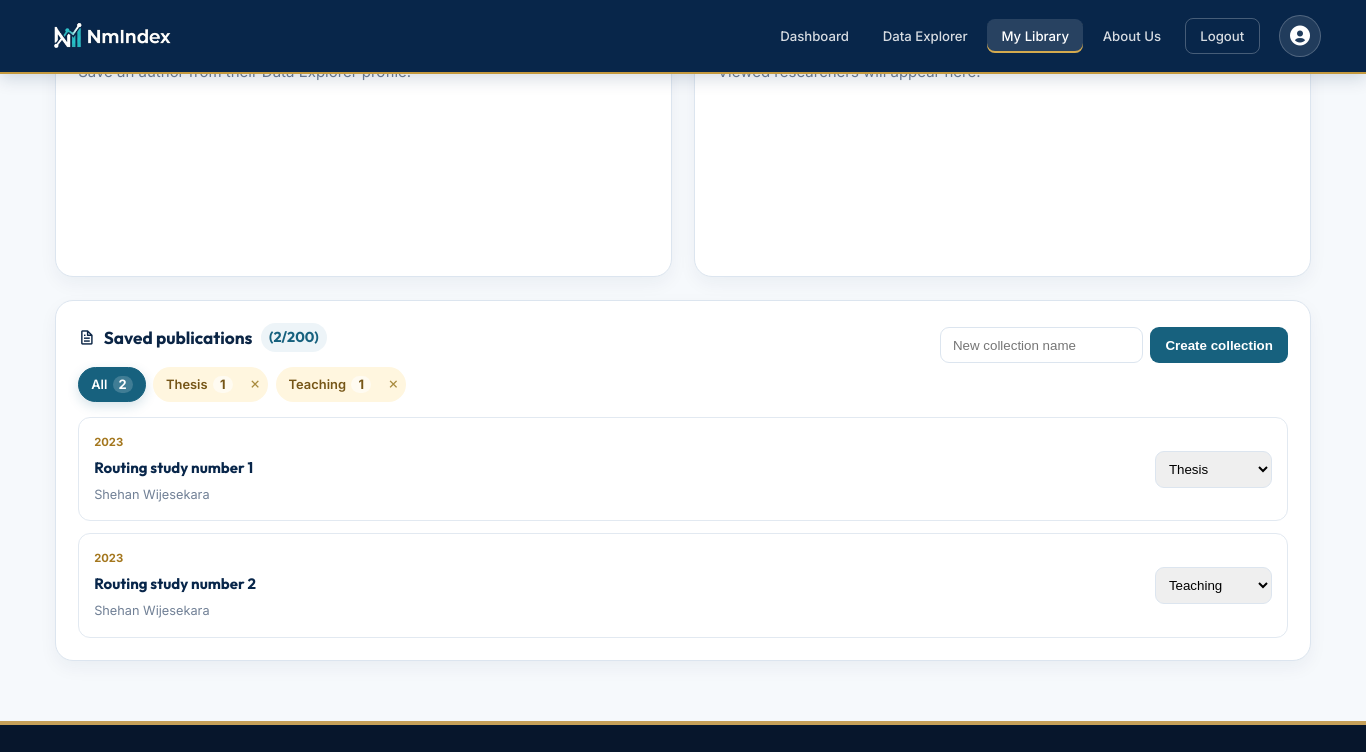
Test: closing returns to the same collection with focus on the paper
(page scrolled)
Click the button "Teaching 1". click: (328, 384)
box: x1=276 y1=367 x2=380 y2=402
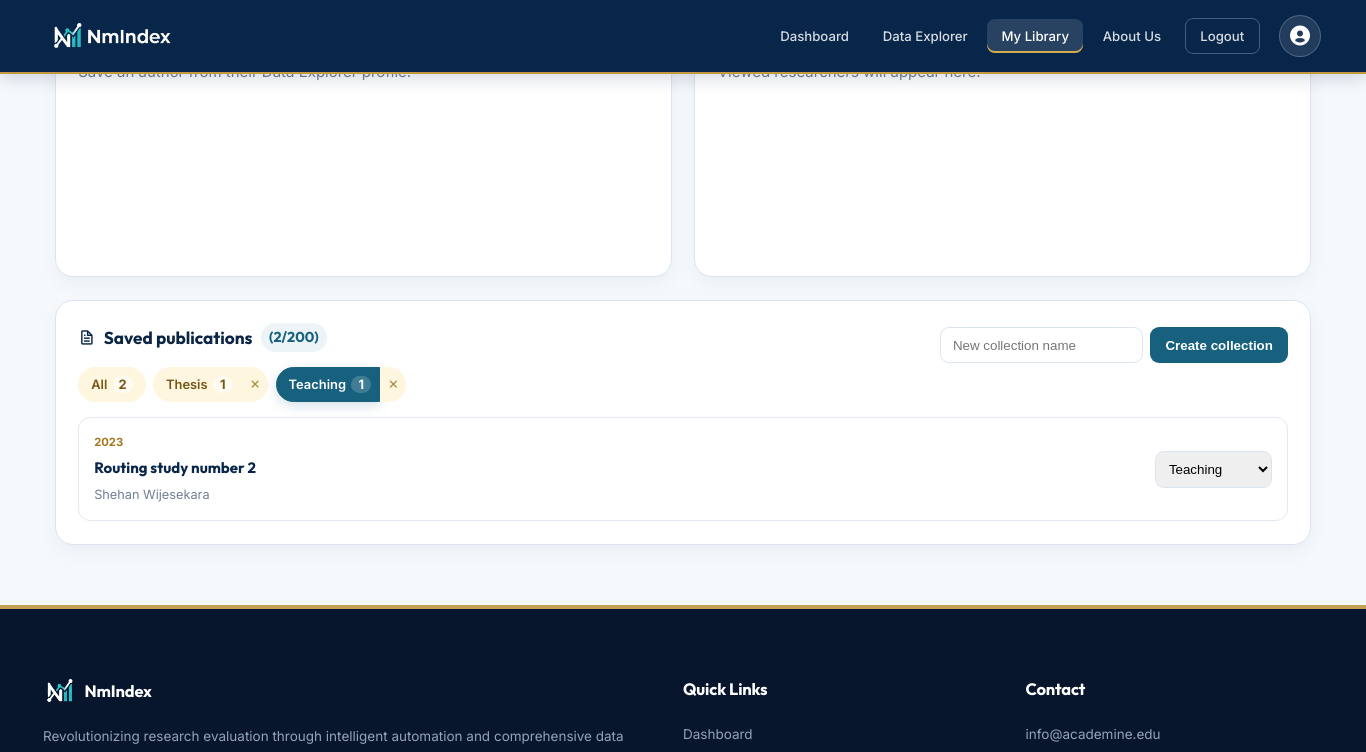
Click the button "2023 Routing study number 2 Shehan Wijesekara". click: (175, 467)
box: x1=94 y1=433 x2=1140 y2=506
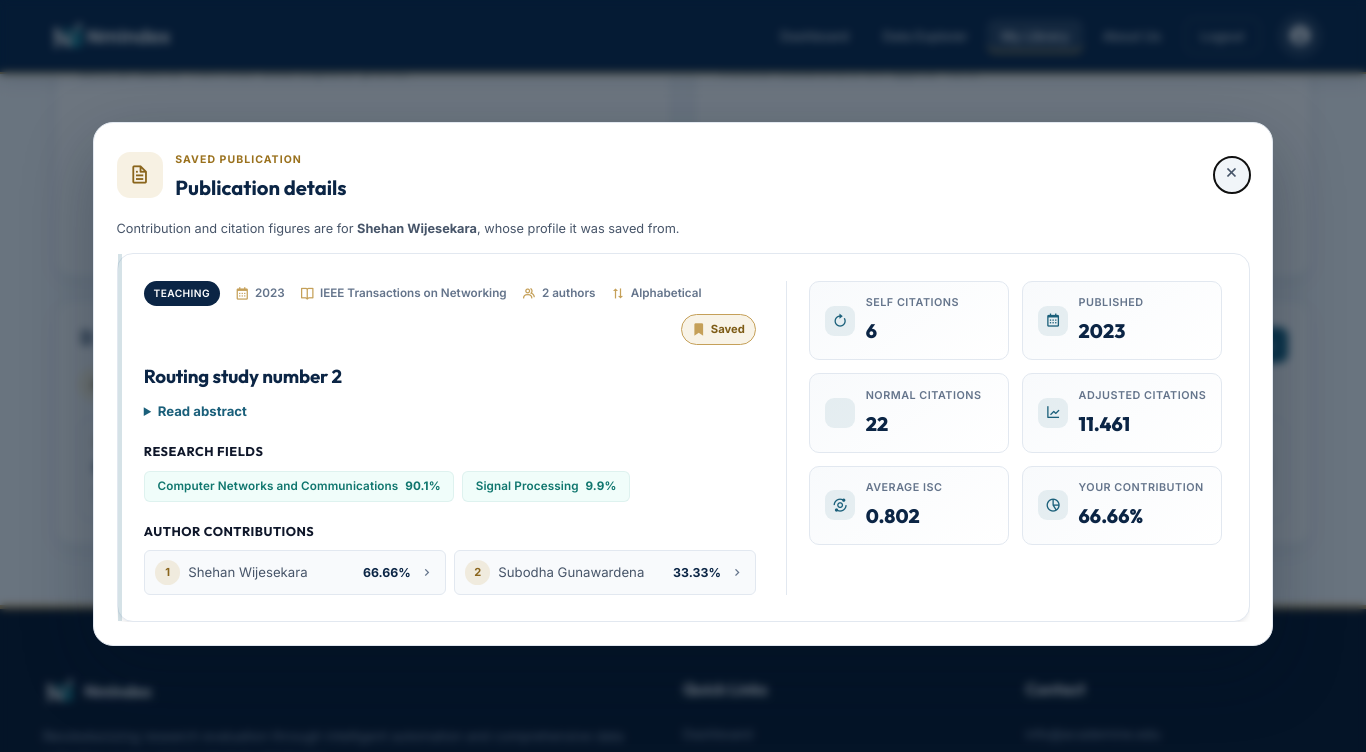
expect the element with class "de-pub-card" is shown: met, box x1=116 y1=253 x2=1250 y2=622
Click the button named "Close". click: (1232, 175)
box: x1=1214 y1=157 x2=1250 y2=193
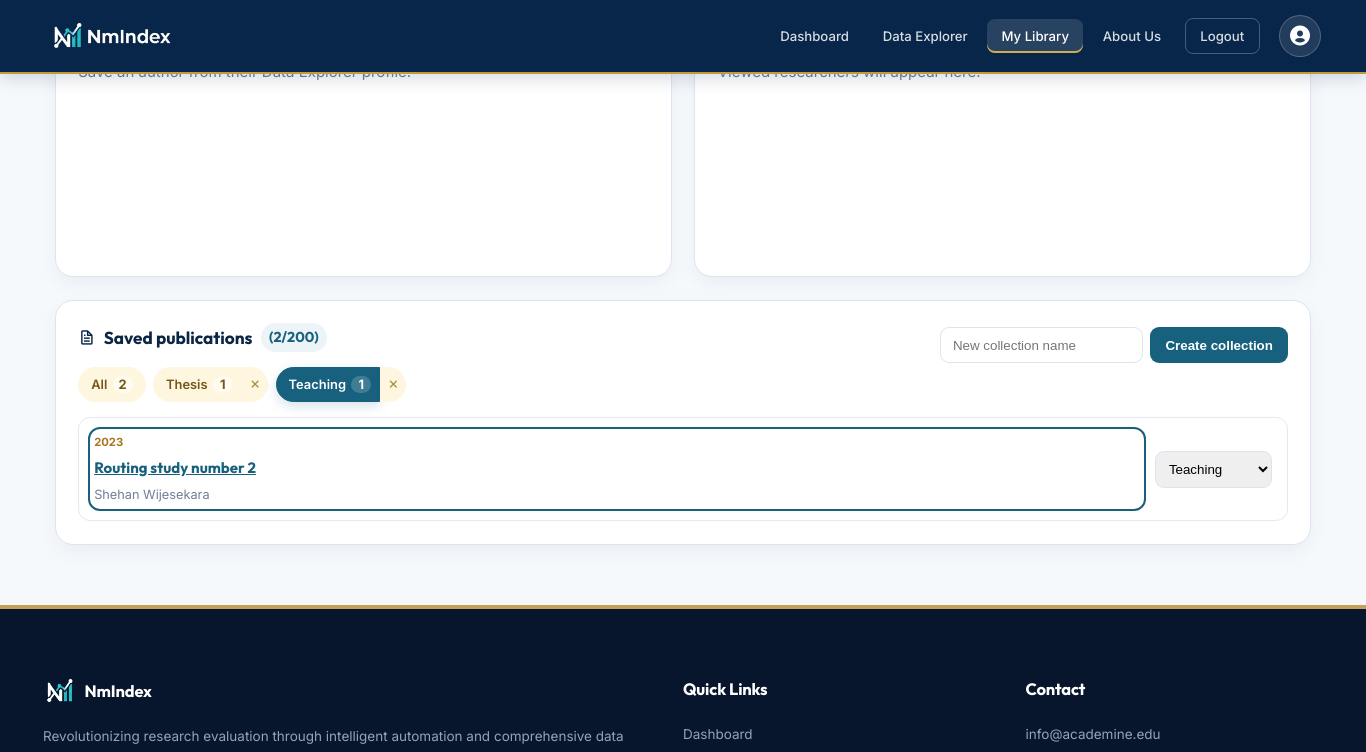
expect the dialog is gone: met
Click the button "2023 Routing study number 2 Shehan Wijesekara". click: (175, 467)
box: x1=94 y1=433 x2=1140 y2=506
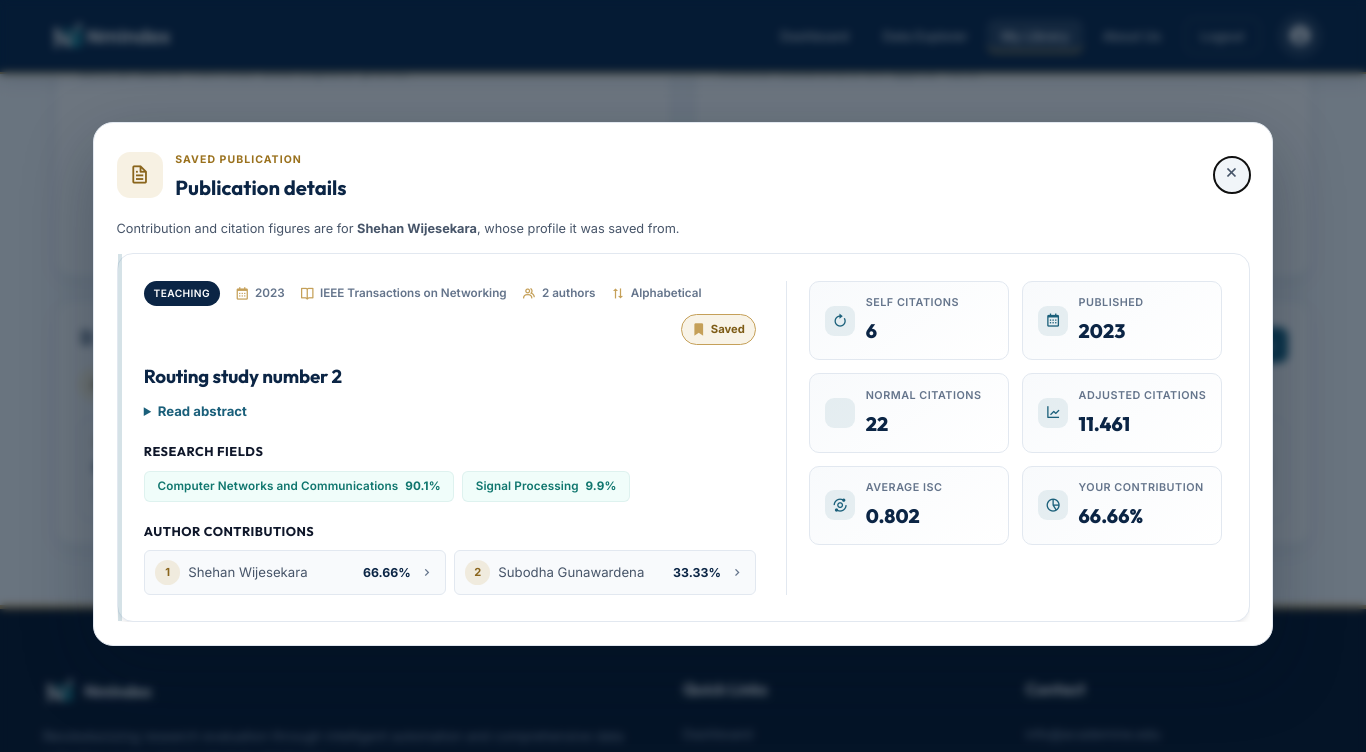
expect the element with class "de-pub-card" is shown: met, box x1=116 y1=253 x2=1250 y2=622
Press Escape
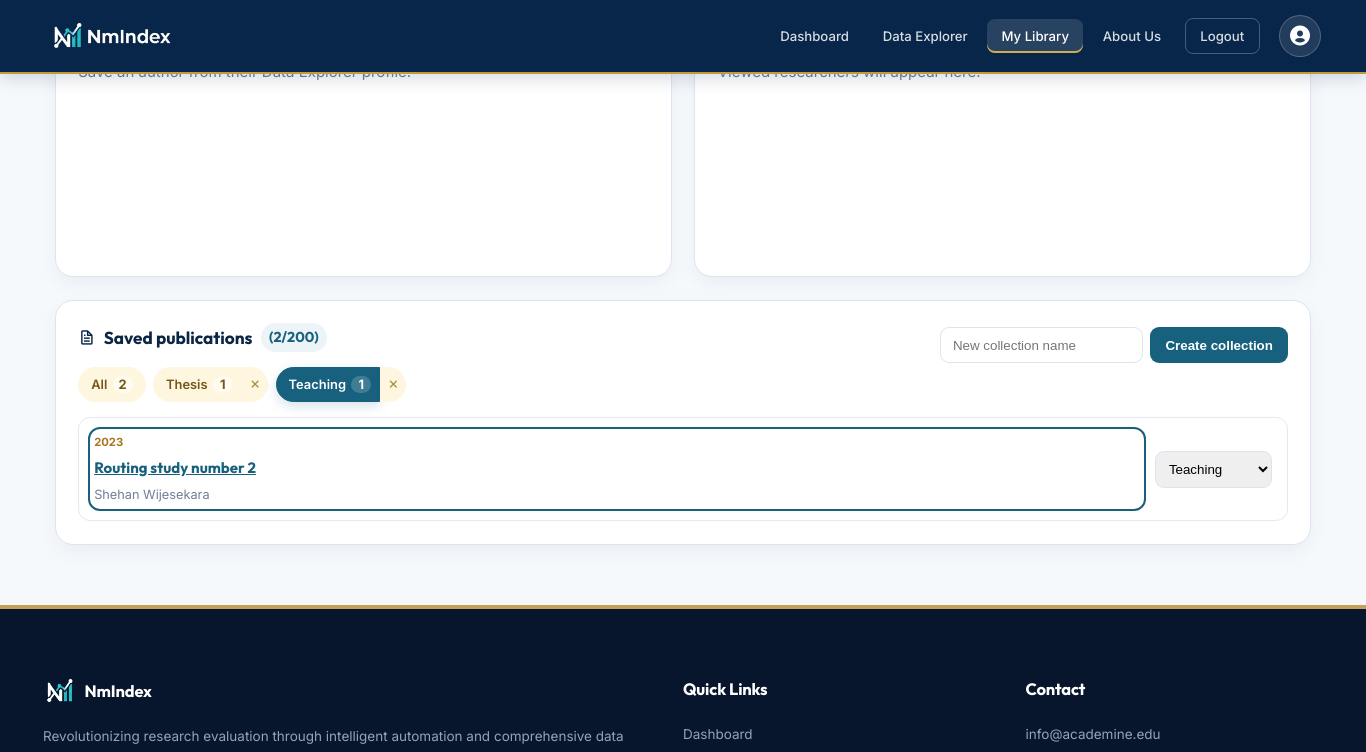
expect the dialog is gone: met
